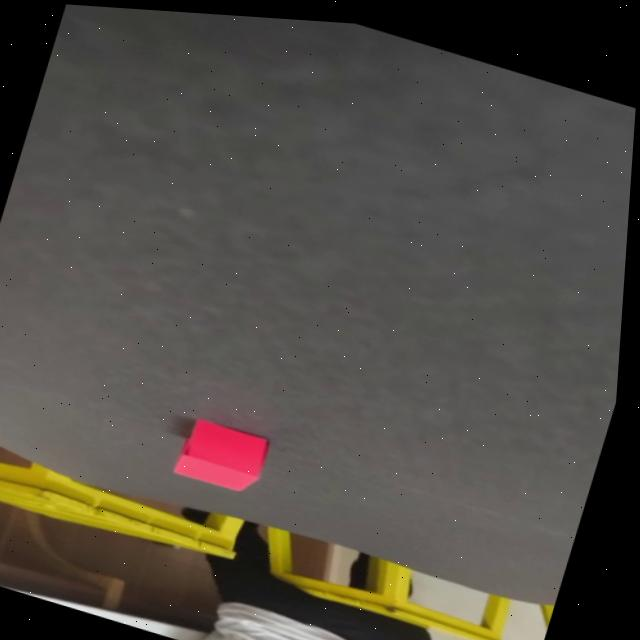red block: (168, 413, 273, 500)
